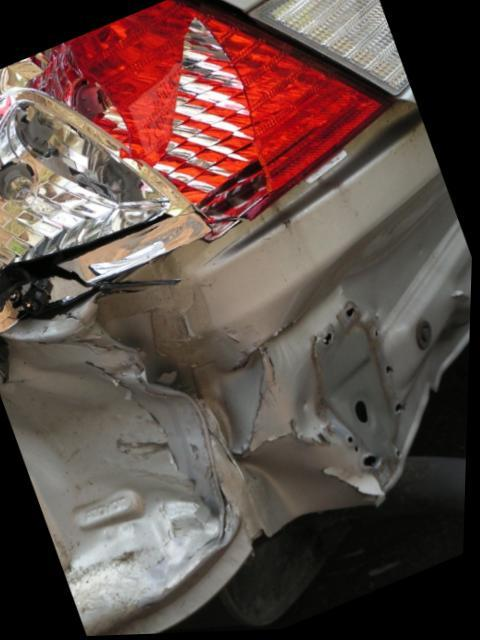dent: (0, 321, 237, 636)
no part: (61, 103, 474, 561)
